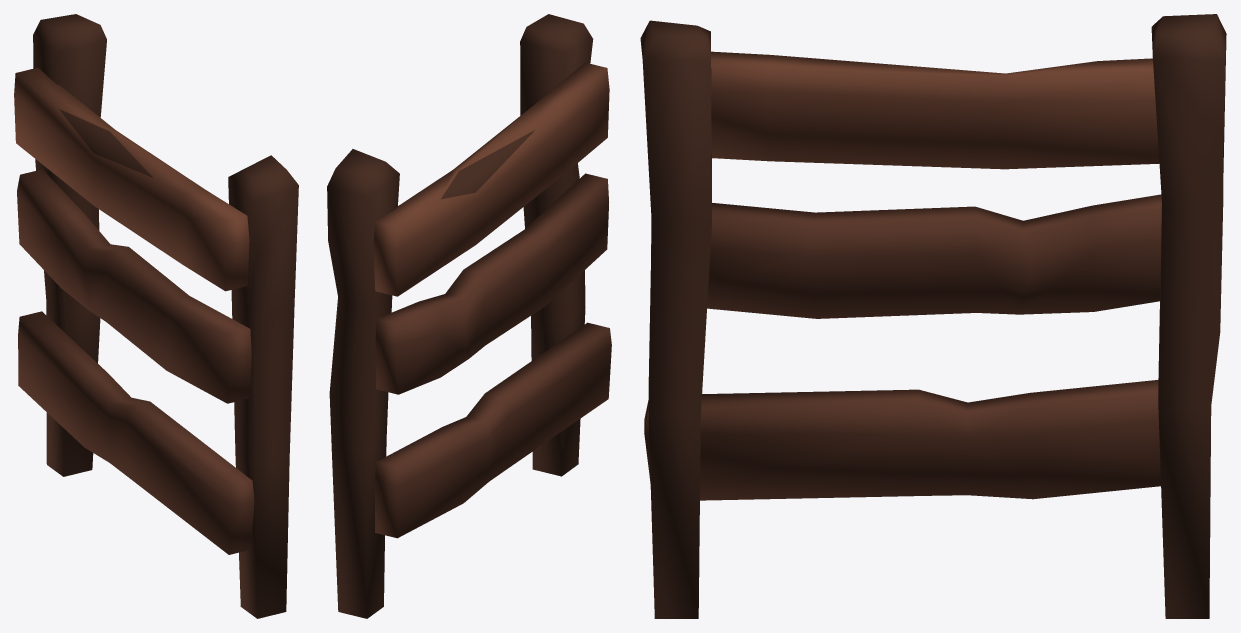
Rendered from FenceWoodSmall_01.glb.
3 views of the same model, side by side, from view 1: azimuth 30°, elevation 25°; view 2: azimuth 150°, elevation 25°; view 3: azimuth 270°, elevation 25° (orthographic). The views are drawn at different scales.
Parts seen in each view (by area): view 1: FenceWoodSmall_01; view 2: FenceWoodSmall_01; view 3: FenceWoodSmall_01.
Boxes of the visible parts, x1,y1,x2,y2 form: FenceWoodSmall_01: [14, 14, 298, 618]; FenceWoodSmall_01: [327, 14, 611, 618]; FenceWoodSmall_01: [640, 14, 1226, 618].
Size of what is drawn, in the model's own units: 0.1977 by 1.21 by 1.1.
Materials: 1 (1 with a texture image).
